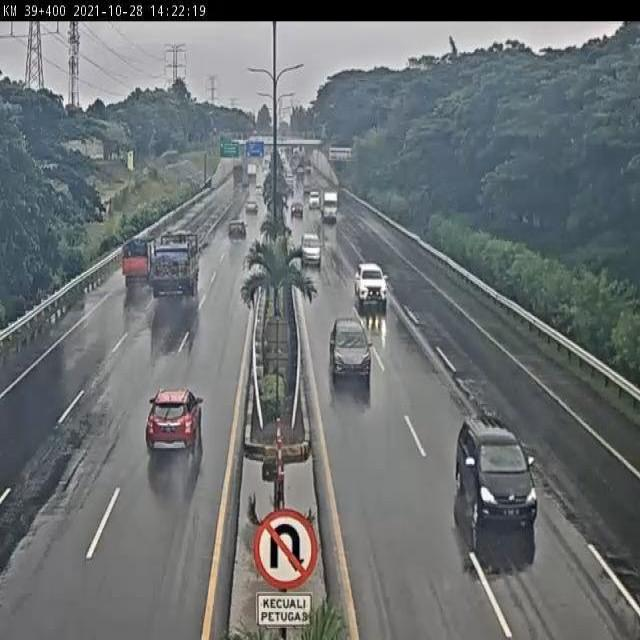car: (451, 423, 540, 532), (140, 386, 205, 458), (328, 312, 371, 375), (350, 259, 389, 305), (298, 230, 323, 266), (227, 216, 249, 244), (289, 199, 306, 221), (246, 196, 261, 219)
small truck: (121, 233, 157, 290)
truck-l-: (146, 230, 201, 302)
truck-s-: (317, 191, 338, 224)
